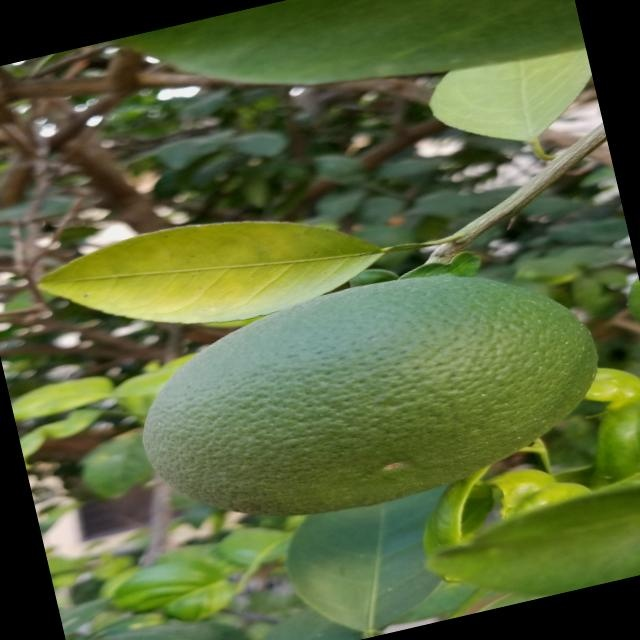agrume: (109, 228, 627, 556)
